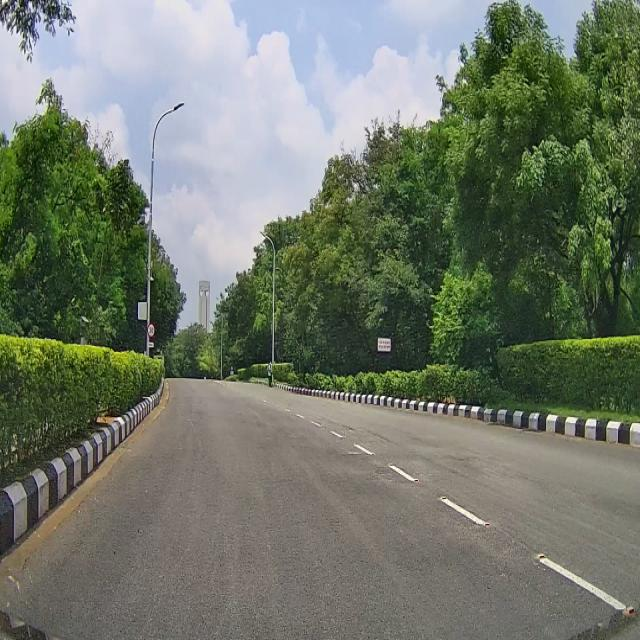electric pole ahead at: (142, 90, 188, 361)
